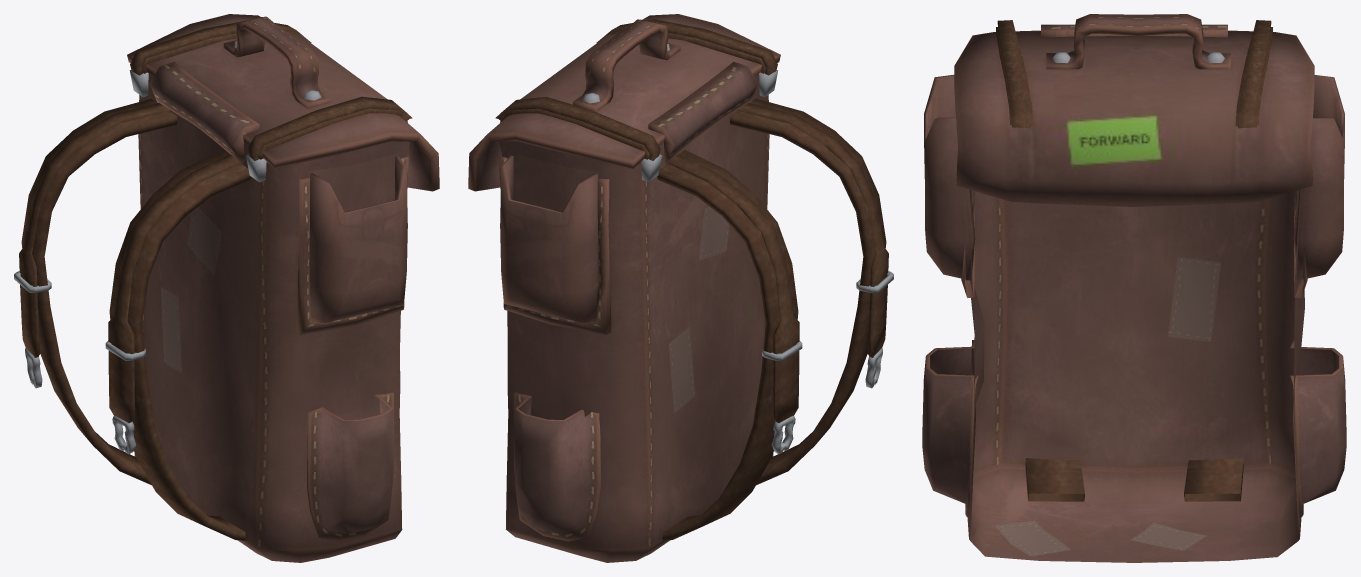
The model's file is Backpack.fbx.
3 renders of one model, left to right at view 1: azimuth 30°, elevation 25°; view 2: azimuth 150°, elevation 25°; view 3: azimuth 270°, elevation 25°, orthographic. The views are drawn at different scales.
Visible parts, largest first — view 1: bag_low; view 2: bag_low; view 3: bag_low.
Part boxes in pixels (x1,y1,x2,y2): bag_low: (14, 14, 439, 562); bag_low: (468, 14, 893, 562); bag_low: (922, 14, 1346, 562).
Size of the model in its own units: 295 by 443 by 327.
